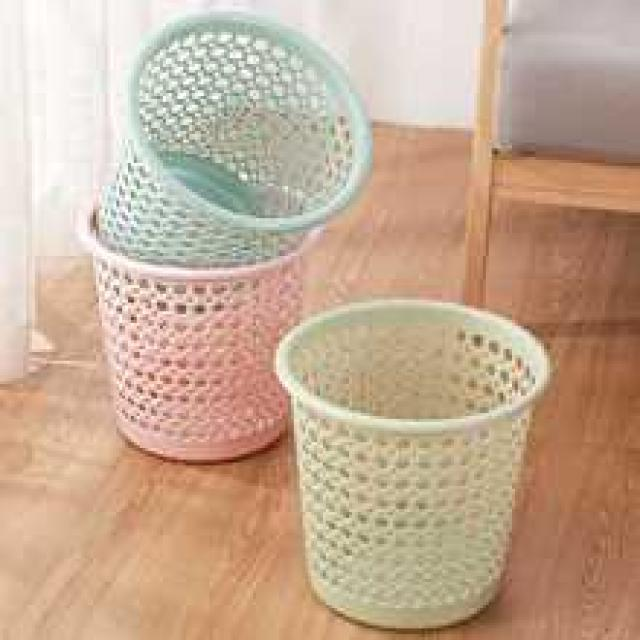Dustbin: (270, 294, 552, 634), (73, 178, 331, 470), (93, 7, 375, 267)
